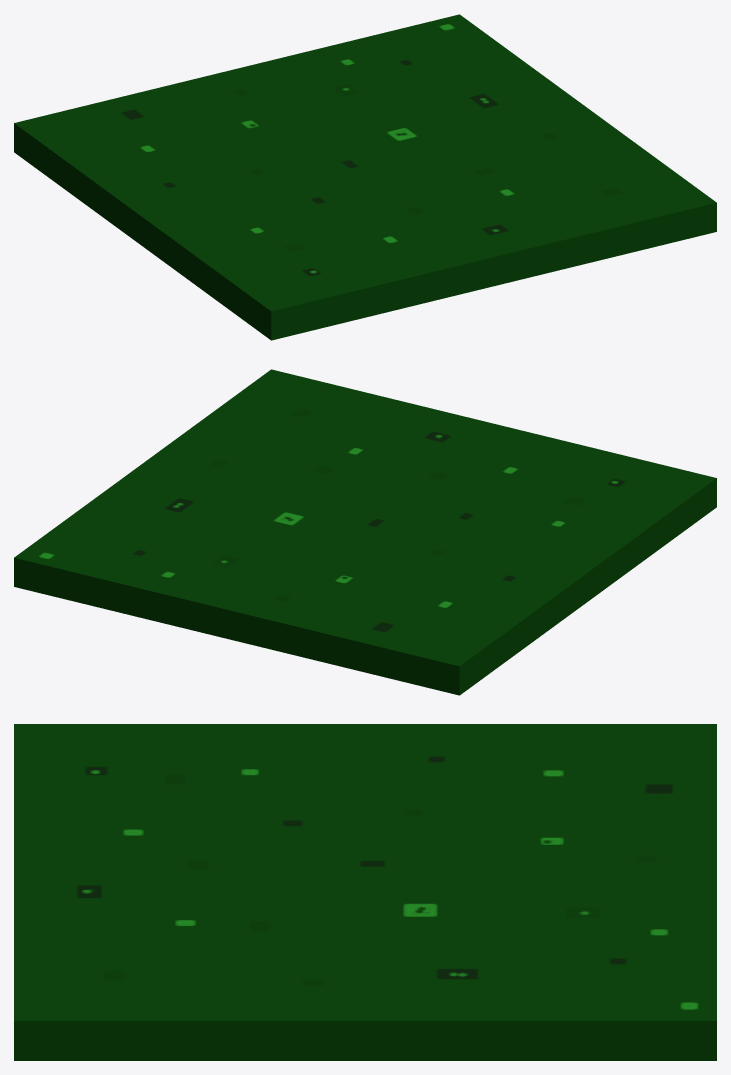
File: yard_8x8_00.glb
The picture shows the model from 3 angles, top to bottom: view 1: azimuth 30°, elevation 25°; view 2: azimuth 150°, elevation 25°; view 3: azimuth 270°, elevation 25°; orthographic projection. The views are drawn at different scales.
Parts seen in each view (by area): view 1: yard_8x8_00; view 2: yard_8x8_00; view 3: yard_8x8_00.
Part boxes in pixels (x1,y1,x2,y2): yard_8x8_00: (14,14,716,340); yard_8x8_00: (14,369,716,695); yard_8x8_00: (14,724,716,1060).
Size of what is drawn, in the model's own units: 8 by 0.5 by 8.
Materials: 1 (1 with a texture image).
